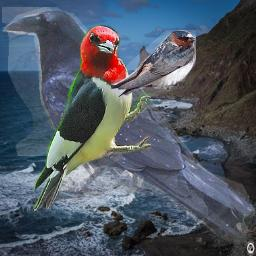Crow: (2, 7, 255, 245)
Swallow: (111, 30, 196, 98)
Woodpecker: (28, 24, 151, 211)
